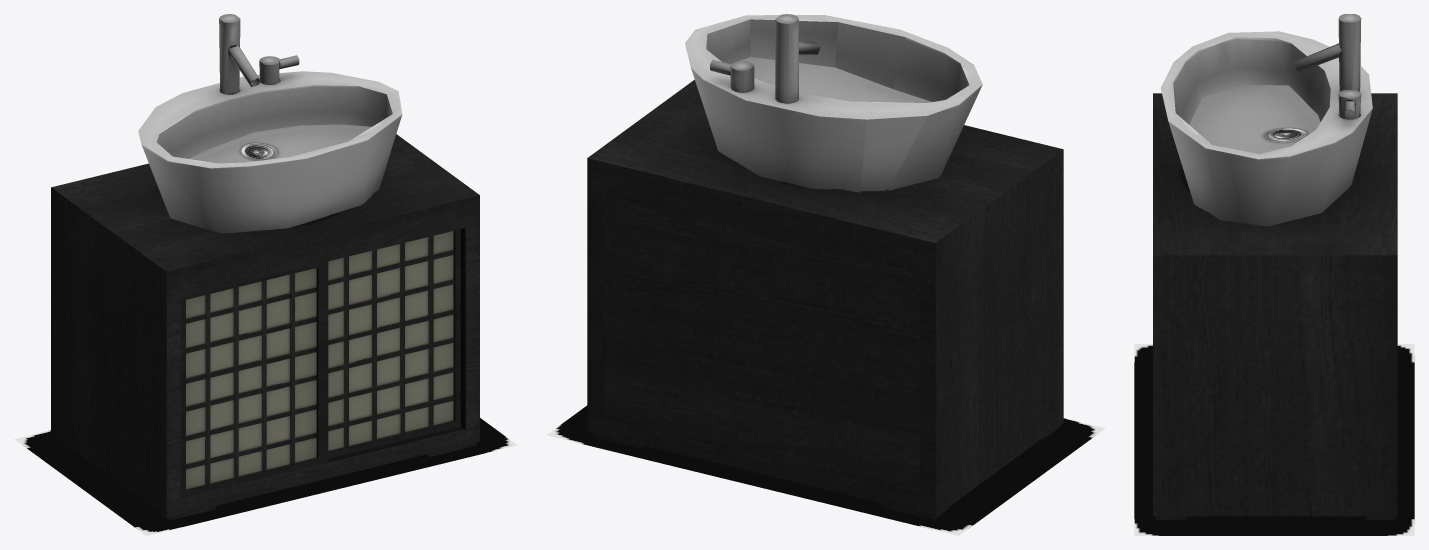
File: jj_rixi_xishouchi01.FBX
3 views of the same model, side by side, from view 1: azimuth 30°, elevation 25°; view 2: azimuth 150°, elevation 25°; view 3: azimuth 270°, elevation 25° (orthographic). The views are drawn at different scales.
Visible parts, largest first — view 1: jj_rixi_xishouchi01, shadow; view 2: jj_rixi_xishouchi01, shadow; view 3: jj_rixi_xishouchi01, shadow.
Part boxes in pixels (<box>): jj_rixi_xishouchi01: <box>51,14,479,520</box>; shadow: <box>14,418,517,535</box>; jj_rixi_xishouchi01: <box>587,14,1063,519</box>; shadow: <box>547,405,1105,535</box>; jj_rixi_xishouchi01: <box>1153,14,1397,519</box>; shadow: <box>1134,344,1414,535</box>.
Size of the model in its own units: 149 by 154 by 91.62.
